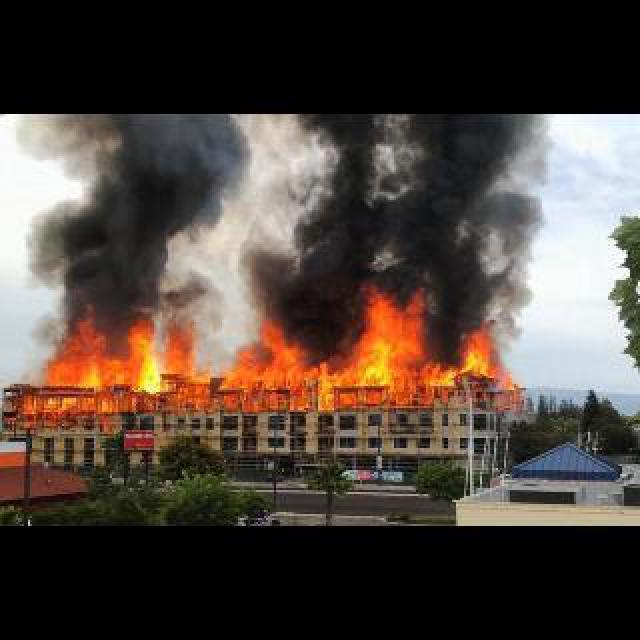Fire: (32, 308, 512, 426)
Smoke: (14, 112, 560, 306)
